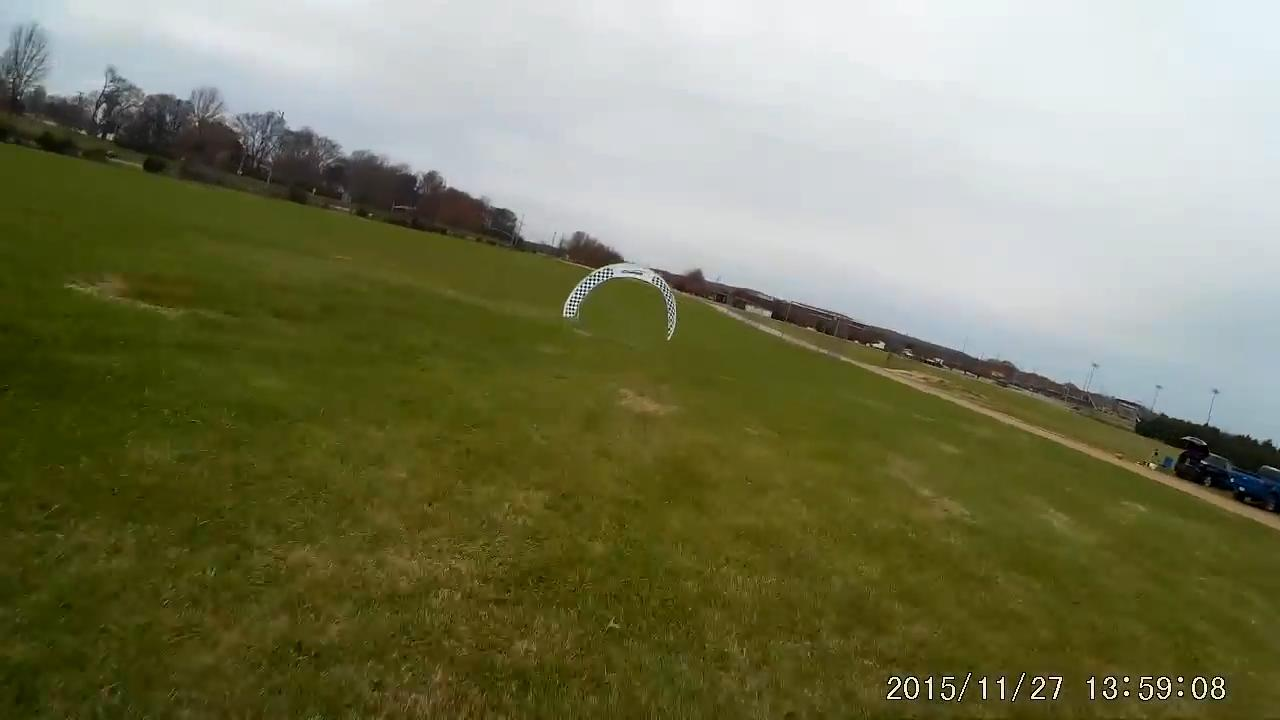gate: (564, 263, 678, 340)
